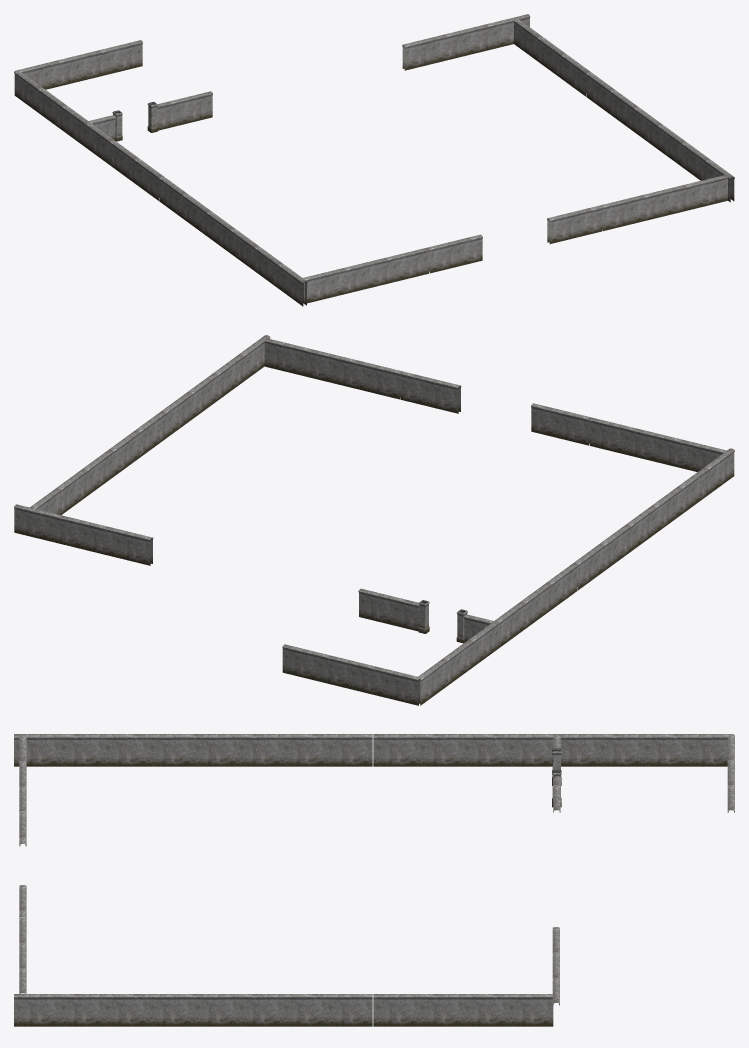
The model's file is exteriorWallsCollider.fbx.
3 views of the same model, one above another, from view 1: azimuth 30°, elevation 25°; view 2: azimuth 150°, elevation 25°; view 3: azimuth 270°, elevation 25° (orthographic). The views are drawn at different scales.
Parts seen in each view (by area): view 1: polySurface1706; view 2: polySurface1706; view 3: polySurface1706.
Boxes of the visible parts, x1,y1,x2,y2 form: polySurface1706: [14, 14, 734, 306]; polySurface1706: [14, 335, 734, 705]; polySurface1706: [14, 734, 734, 1026].
Size of the model in its own units: 6483 by 383 by 7319.
